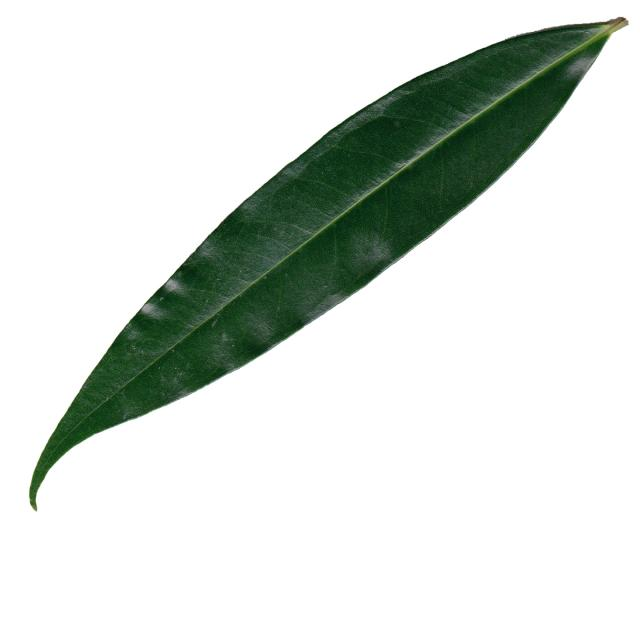Medicinal-Rose Apple: (30, 16, 624, 508)
